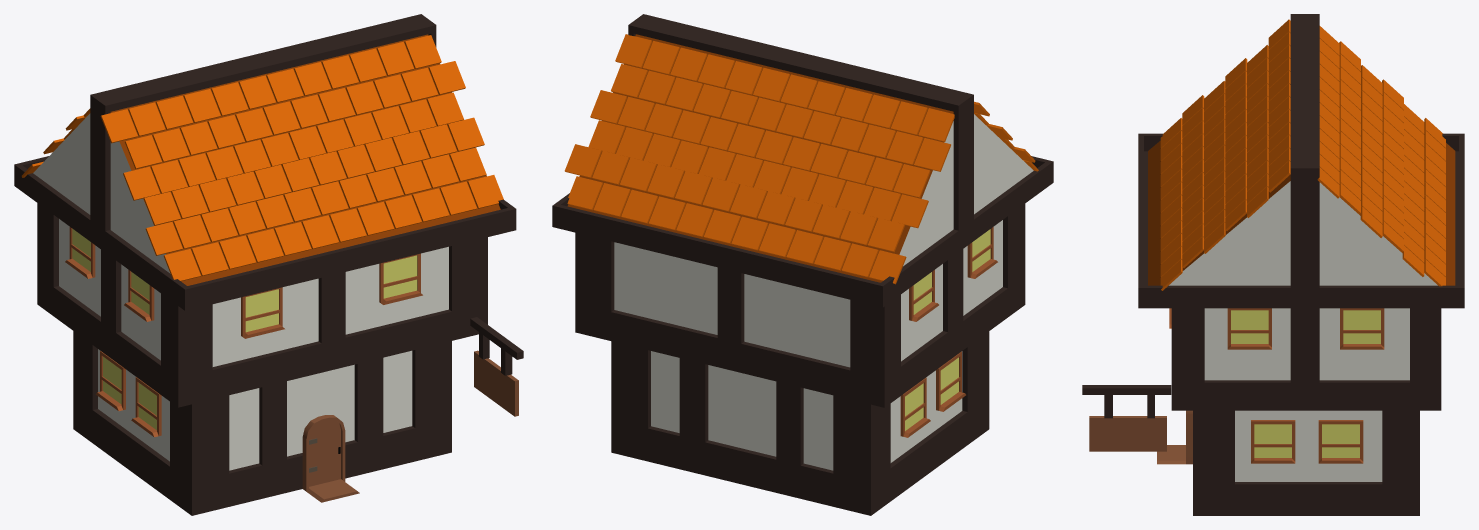
Rendered from building_A.fbx.
The picture shows the model from 3 angles, left to right: view 1: azimuth 30°, elevation 25°; view 2: azimuth 150°, elevation 25°; view 3: azimuth 270°, elevation 25°; orthographic projection. The views are drawn at different scales.
Visible parts, largest first — view 1: rooftitles, floorwood_1st, floorwood_2nd, roofwood, floor_2nd, roof, floor_1st, door, sign, window10, window9, window1 (+3 smaller); view 2: rooftitle, floorwood_1st, floorwood_2nd, roofwood, floor_2nd, roof, floor_1st, window2, window1, window5, window6, rooftitles; view 3: rooftitles, rooftitle, roofwood, roof, floorwood_2nd, floorwood_1st, floor_2nd, floor_1st, sign, window3, window4, window7 (+2 smaller).
Part boxes in pixels (x1,y1,x2,y2): rooftitles: (100, 35, 503, 281); floorwood_1st: (73, 331, 451, 515); floorwood_2nd: (37, 203, 487, 407); roofwood: (14, 14, 516, 310); floor_2nd: (59, 219, 448, 366); roof: (33, 34, 500, 285); floor_1st: (98, 349, 412, 470); door: (302, 415, 359, 502); sign: (470, 317, 523, 416); window10: (241, 287, 284, 338); window9: (379, 253, 422, 304); window1: (131, 377, 161, 437); rooftitle: (564, 34, 954, 284); floorwood_1st: (611, 331, 989, 515); floorwood_2nd: (575, 204, 1025, 407); roofwood: (552, 14, 1053, 307); floor_2nd: (614, 220, 1002, 367); roof: (567, 34, 1033, 282); floor_1st: (651, 351, 962, 470); window2: (900, 377, 930, 437); window1: (936, 351, 965, 411); window5: (967, 227, 997, 278); window6: (909, 270, 938, 321); rooftitles: (974, 101, 1038, 171); rooftitles: (1160, 19, 1290, 290); rooftitle: (1317, 26, 1445, 286); roofwood: (1138, 14, 1464, 308); roof: (1148, 84, 1455, 285); floorwood_2nd: (1171, 308, 1441, 410); floorwood_1st: (1193, 410, 1419, 515); floor_2nd: (1204, 308, 1409, 380); floor_1st: (1235, 410, 1382, 481); sign: (1082, 385, 1171, 451); window3: (1318, 420, 1363, 463); window4: (1251, 420, 1295, 463); window7: (1227, 308, 1271, 349).
Bounding box in the file's own units: 13.25 × 13.99 × 13.32.
